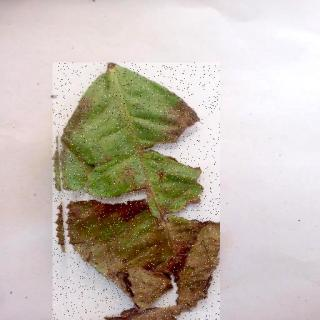Algal Leaf: (53, 63, 221, 320)
